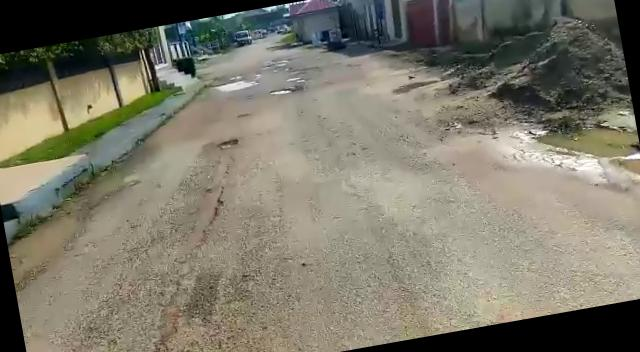pothole: (212, 76, 258, 93), (266, 84, 302, 96), (216, 138, 239, 150)
